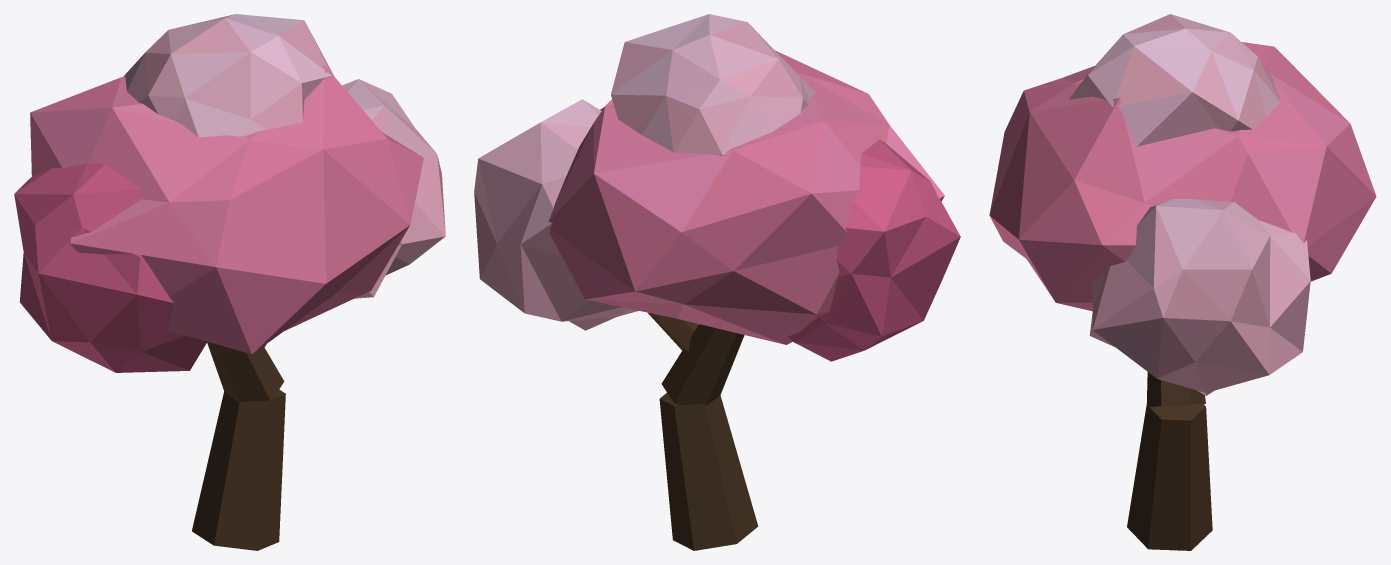
Rendered from Scatter_SakuraTree.fbx.
The picture shows the model from 3 angles, left to right: view 1: azimuth 30°, elevation 25°; view 2: azimuth 150°, elevation 25°; view 3: azimuth 270°, elevation 25°; orthographic projection. The views are drawn at different scales.
Visible parts, largest first — view 1: SakuraTree; view 2: SakuraTree; view 3: SakuraTree.
Boxes of the visible parts, box(x1,y1,x2,y2) form: SakuraTree: box(14, 14, 445, 550); SakuraTree: box(474, 14, 960, 550); SakuraTree: box(989, 14, 1376, 550).
Bounding box in the file's own units: 14.88 × 16.91 × 11.73.
